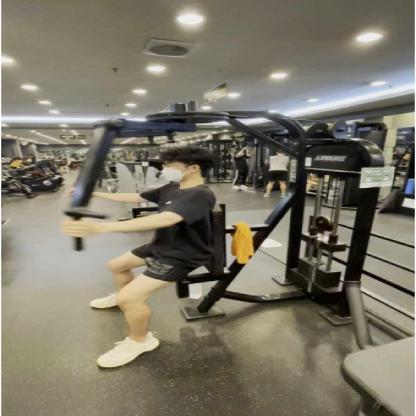chest fly machine: (36, 82, 416, 380)
